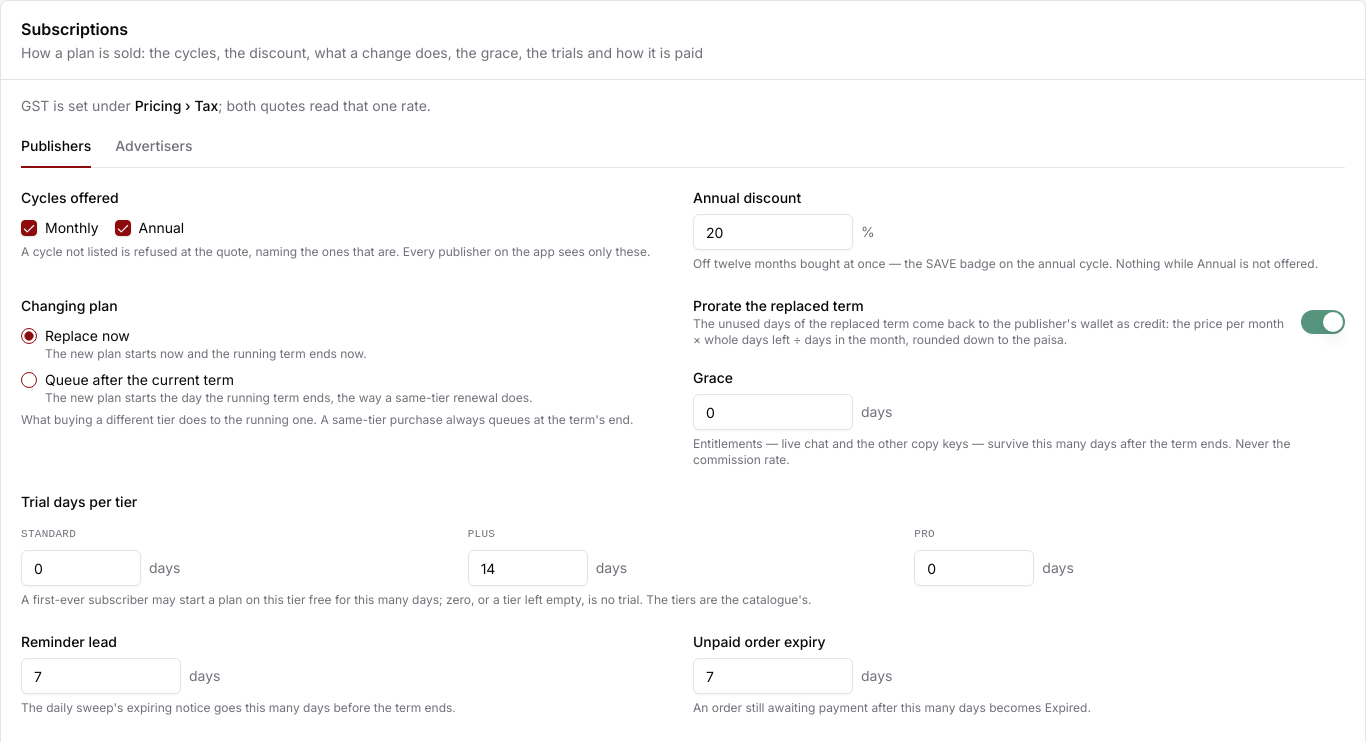
Test: the cycle set › names the at-least-one rule once the last cycle is unticked
This screenshot has width=1366, height=742.
Click the 2nd checkbox named "Annual" at (122, 228), box [114,220,130,236]
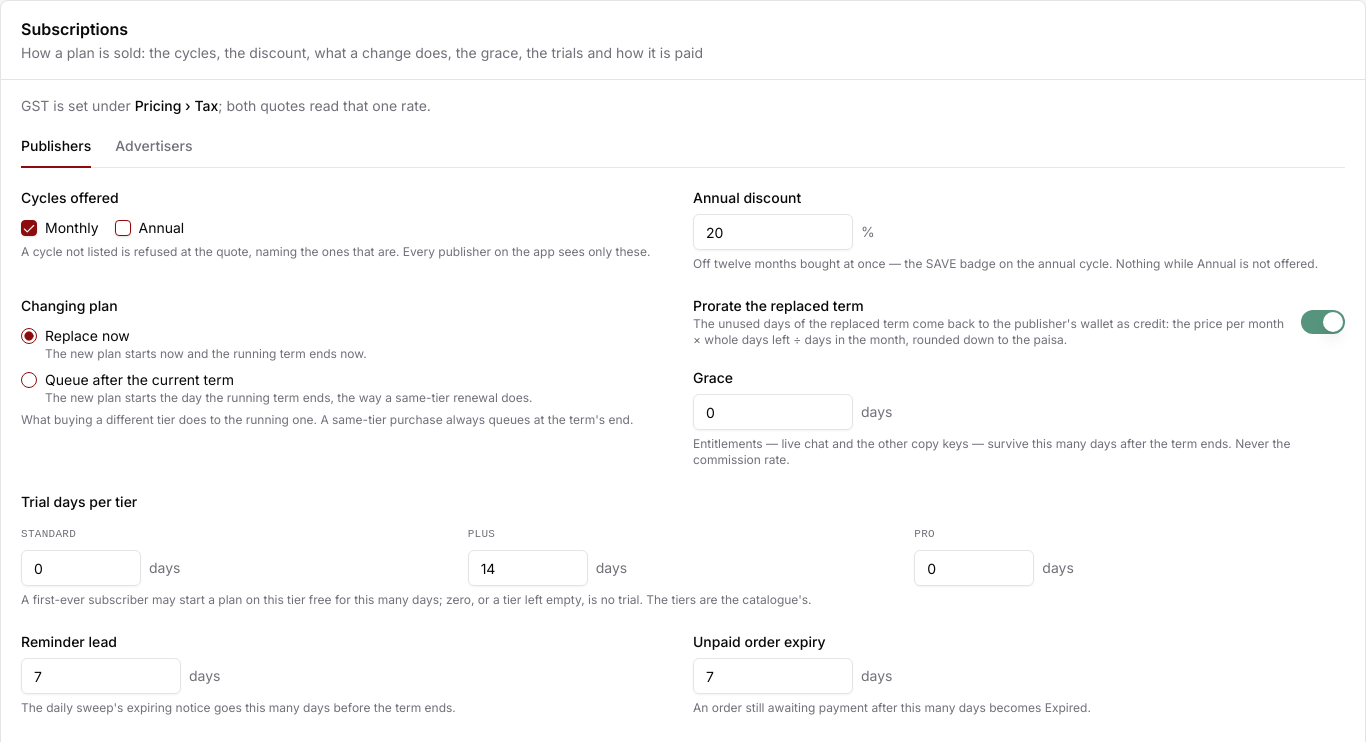
expect the text "At least one cycle must be offered." is not shown: met
Click the checkbox named "Monthly" next to "Monthly" at (29, 228), box [21,220,37,236]
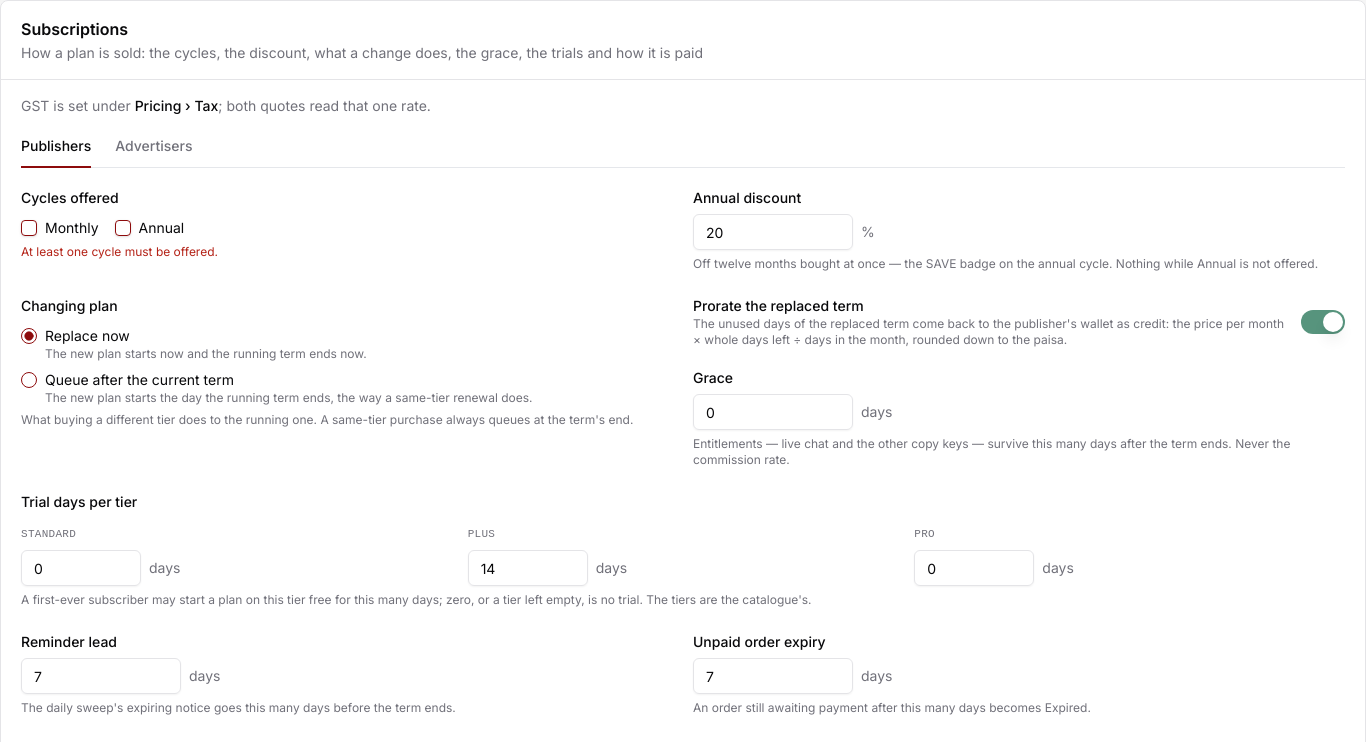
expect the text "At least one cycle must be offered." is shown: met, box [21,244,218,259]
Click the 2nd checkbox named "Annual" at (122, 228), box [114,220,130,236]
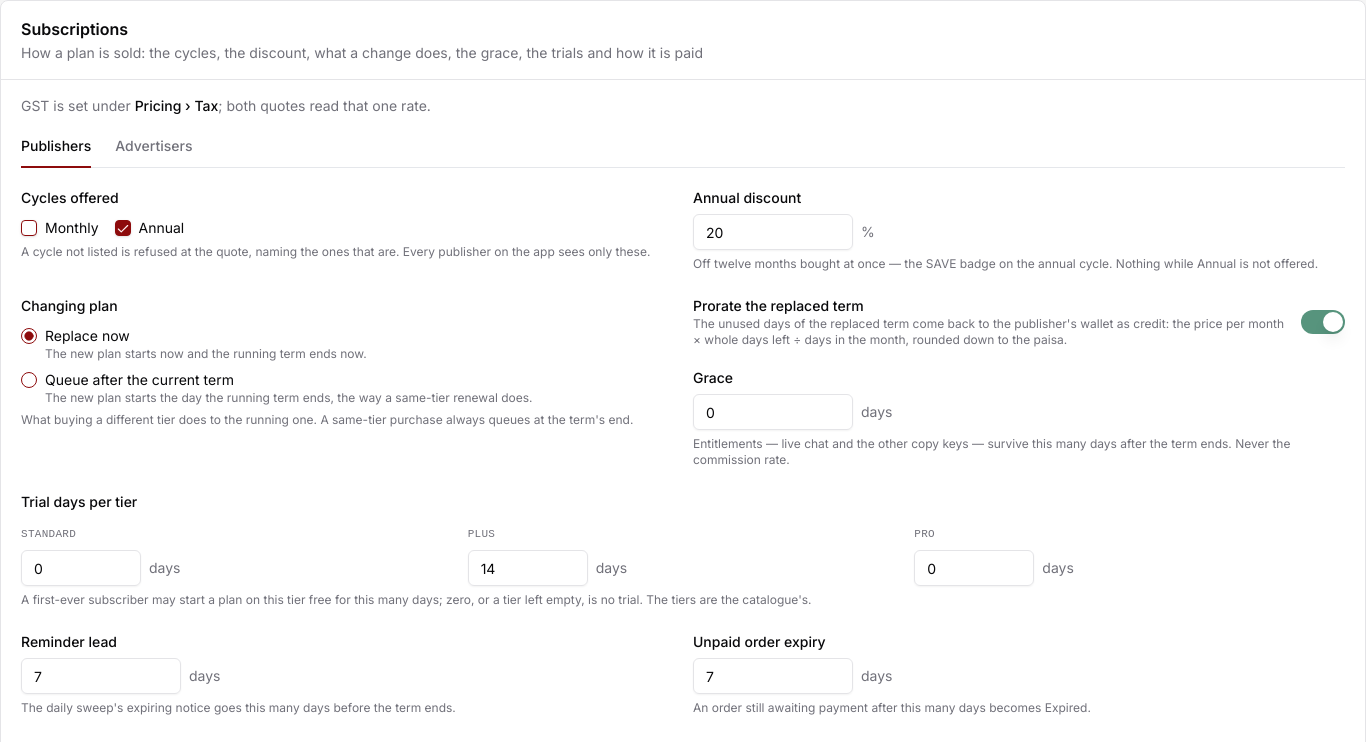
expect the text "At least one cycle must be offered." is gone: met
